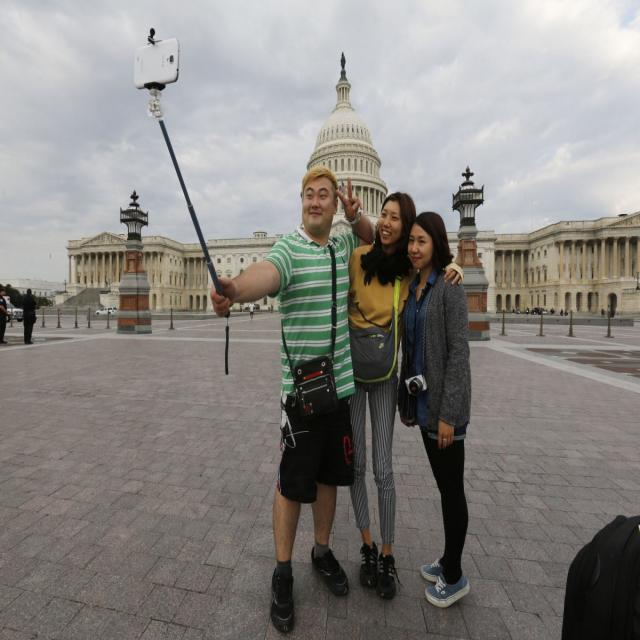body: (206, 162, 382, 632), (346, 189, 465, 602), (395, 208, 473, 608), (558, 498, 639, 639), (20, 287, 39, 346), (509, 303, 574, 318), (0, 286, 10, 345), (84, 234, 124, 244), (248, 300, 255, 323), (268, 301, 274, 315), (237, 304, 244, 316)
